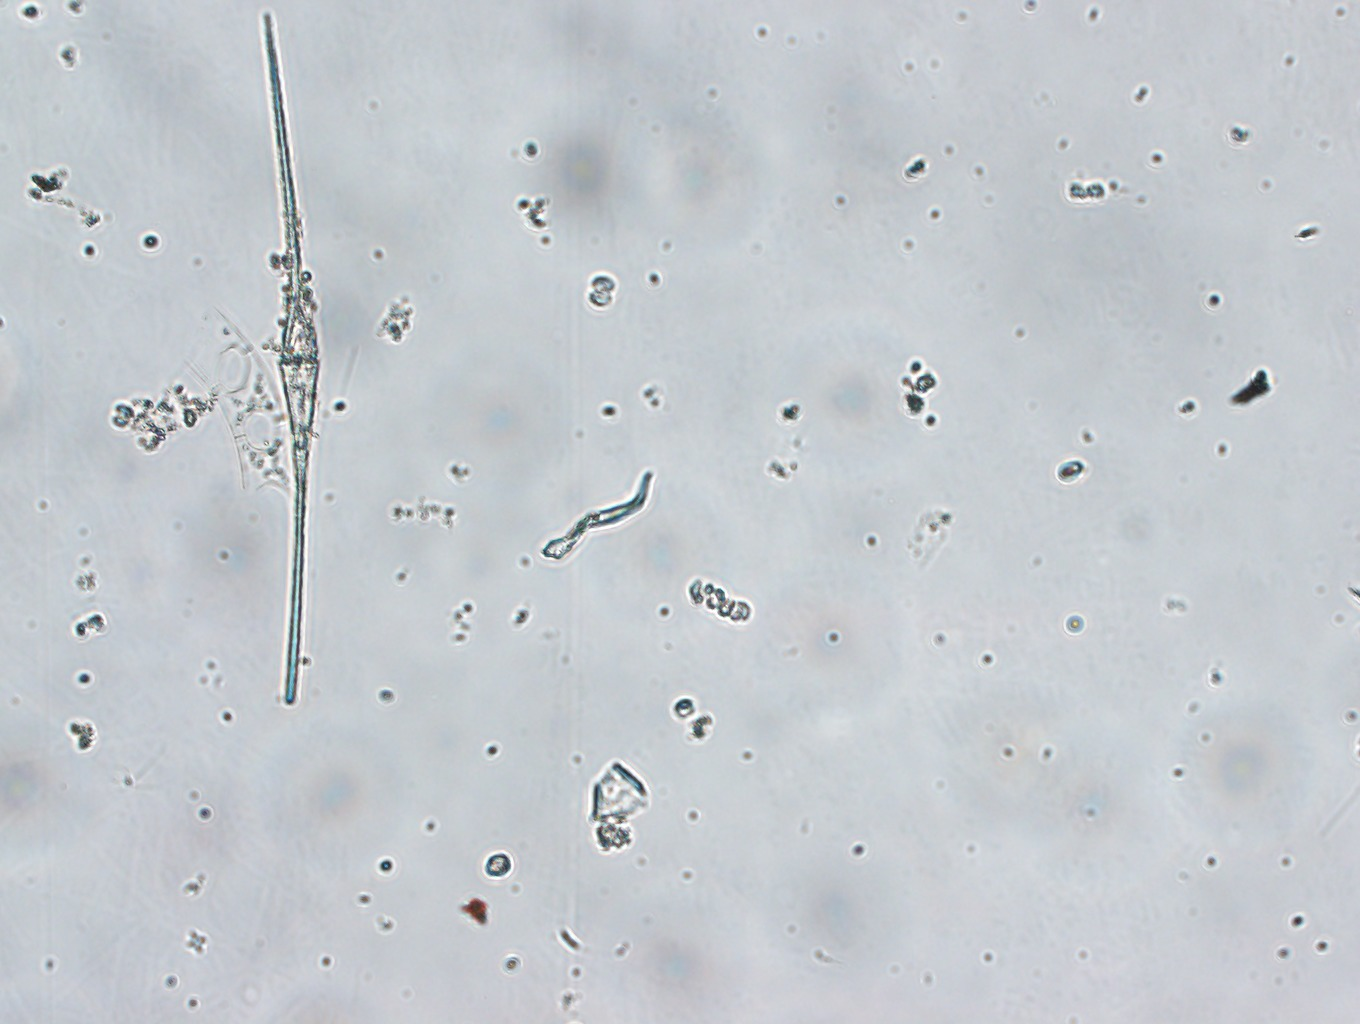ceratium fusus: (255, 5, 335, 706)
eucampia: (177, 296, 297, 515)
